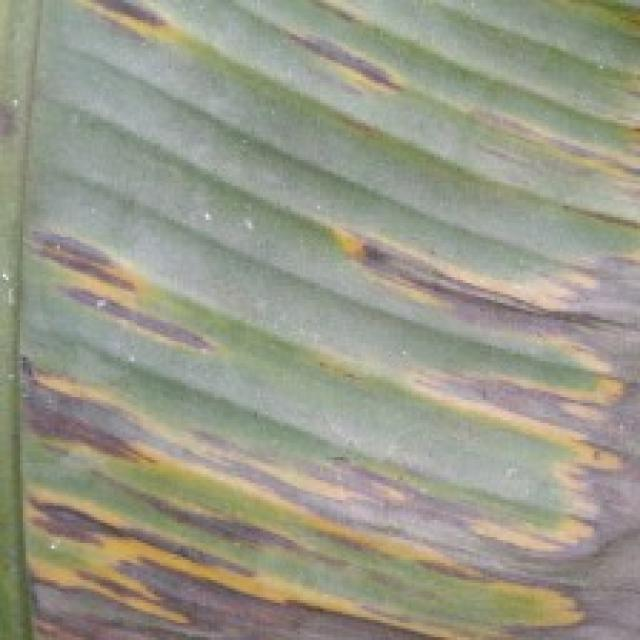Early_leaf_spot: (0, 323, 640, 640), (304, 194, 628, 365), (6, 175, 206, 372), (390, 326, 640, 436), (462, 95, 640, 223), (273, 23, 439, 124), (70, 0, 174, 53), (562, 0, 640, 51)
